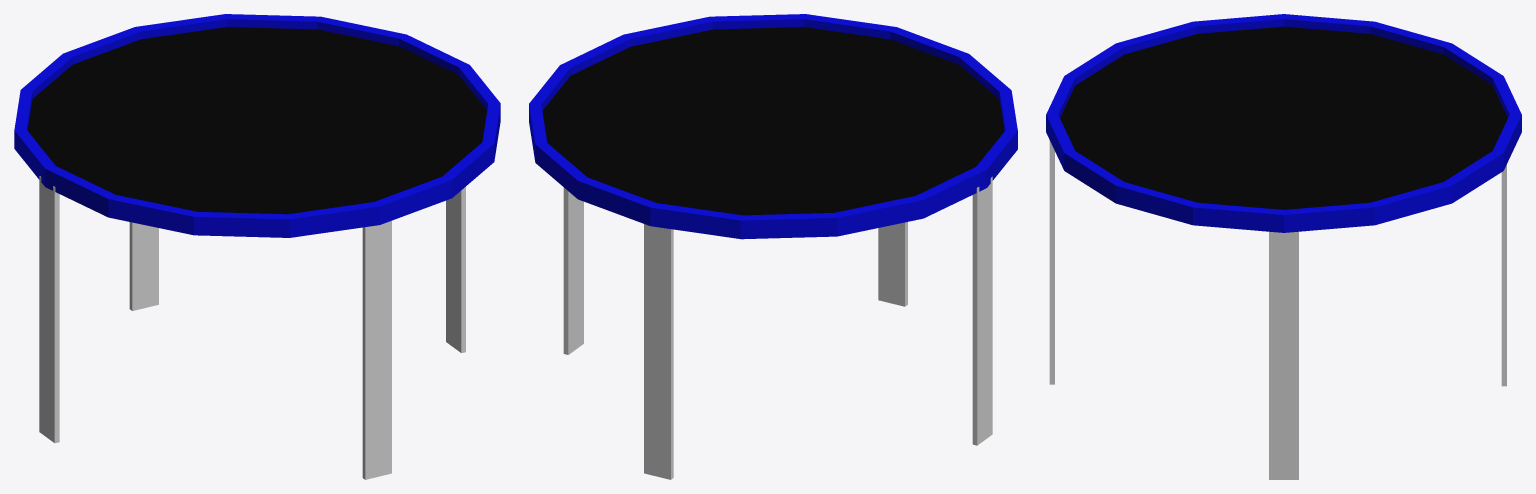
File: trampoline.glb
The picture shows the model from 3 angles, left to right: view 1: azimuth 30°, elevation 25°; view 2: azimuth 150°, elevation 25°; view 3: azimuth 270°, elevation 25°; orthographic projection. The views are drawn at different scales.
Visible parts, largest first — view 1: Cylinder, Cube.002, Cube.001, Cube, Cube.003; view 2: Cylinder, Cube.003, Cube.001, Cube, Cube.002; view 3: Cylinder, Cube, Cube.002, Cube.003.
Boxes of the visible parts, <box> form: Cylinder: <box>14,14,500,237</box>; Cube.002: <box>362,220,391,479</box>; Cube.001: <box>39,176,59,443</box>; Cube: <box>446,187,465,353</box>; Cube.003: <box>129,222,158,310</box>; Cylinder: <box>529,14,1017,239</box>; Cube.003: <box>644,224,673,479</box>; Cube.001: <box>972,176,992,445</box>; Cube: <box>563,187,583,354</box>; Cube.002: <box>878,222,907,306</box>; Cylinder: <box>1046,14,1521,232</box>; Cube: <box>1269,231,1298,479</box>; Cube.002: <box>1049,140,1054,384</box>; Cube.003: <box>1501,164,1506,386</box>.
Bounding box in the file's own units: 2 × 1.25 × 2.
